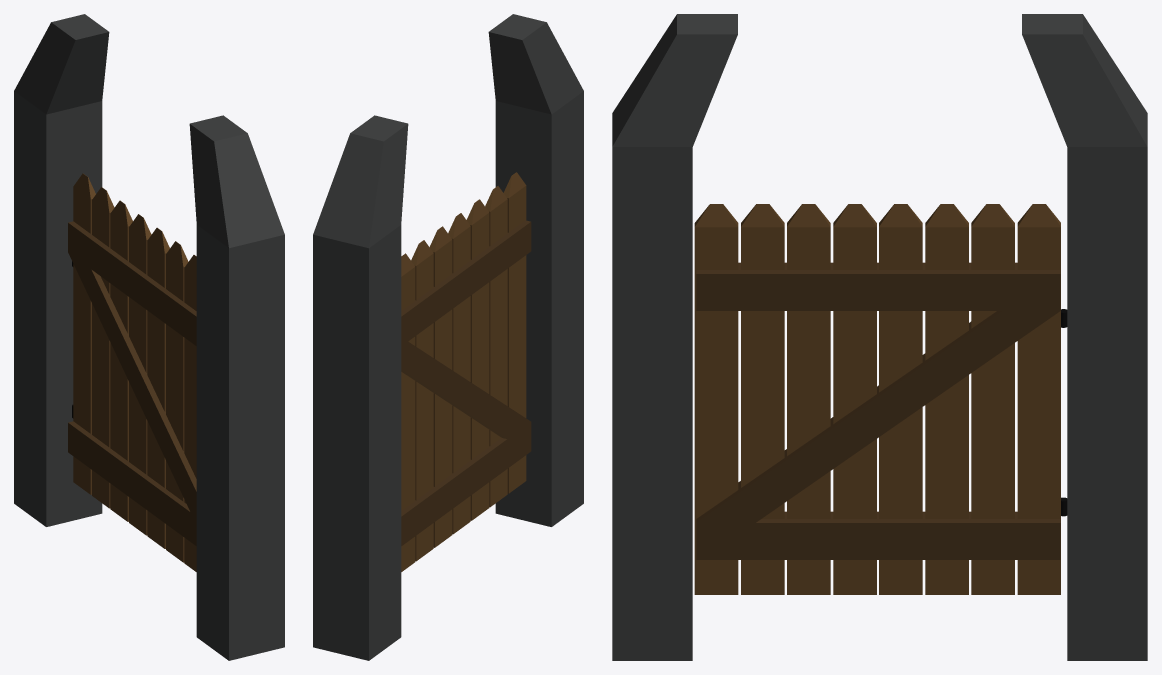
File: smallwoodendoor.fbx
The picture shows the model from 3 angles, left to right: view 1: azimuth 30°, elevation 25°; view 2: azimuth 150°, elevation 25°; view 3: azimuth 270°, elevation 25°; orthographic projection. The views are drawn at different scales.
Parts seen in each view (by area): view 1: Cube_001, Cube_004, Cube_002; view 2: Cube_001, Cube_004, Cube_002; view 3: Cube_001, Cube_004, Cube_002.
Boxes of the visible parts, left/top/right/bottom form: Cube_001: left=14, top=14, right=284, bottom=660; Cube_004: left=72, top=173, right=196, bottom=571; Cube_002: left=68, top=221, right=196, bottom=545; Cube_001: left=313, top=14, right=583, bottom=660; Cube_004: left=401, top=172, right=526, bottom=571; Cube_002: left=401, top=220, right=531, bottom=545; Cube_001: left=612, top=14, right=1147, bottom=660; Cube_004: left=694, top=204, right=1067, bottom=594; Cube_002: left=696, top=262, right=1060, bottom=559.
Bounding box in the file's own units: 0.7924 × 6.74 × 5.28.
